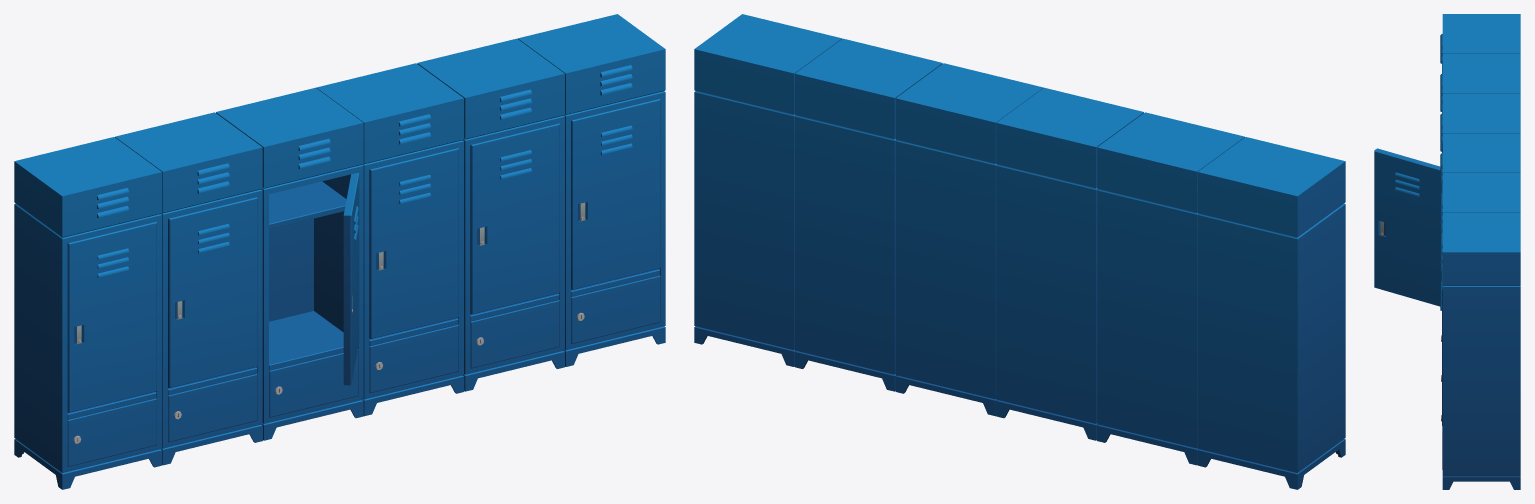
File: CR_LockerA_1.fbx
3 renders of one model, left to right at view 1: azimuth 30°, elevation 25°; view 2: azimuth 150°, elevation 25°; view 3: azimuth 270°, elevation 25°, orthographic. The views are drawn at different scales.
Visible parts, largest first — view 1: CR_LockerA_1; view 2: CR_LockerA_1; view 3: CR_LockerA_1.
Part boxes in pixels (bbox=[...]): CR_LockerA_1: bbox=[14, 14, 665, 489]; CR_LockerA_1: bbox=[694, 14, 1345, 489]; CR_LockerA_1: bbox=[1374, 14, 1520, 489].
Size of the model in its own units: 326 by 152 by 84.62.
